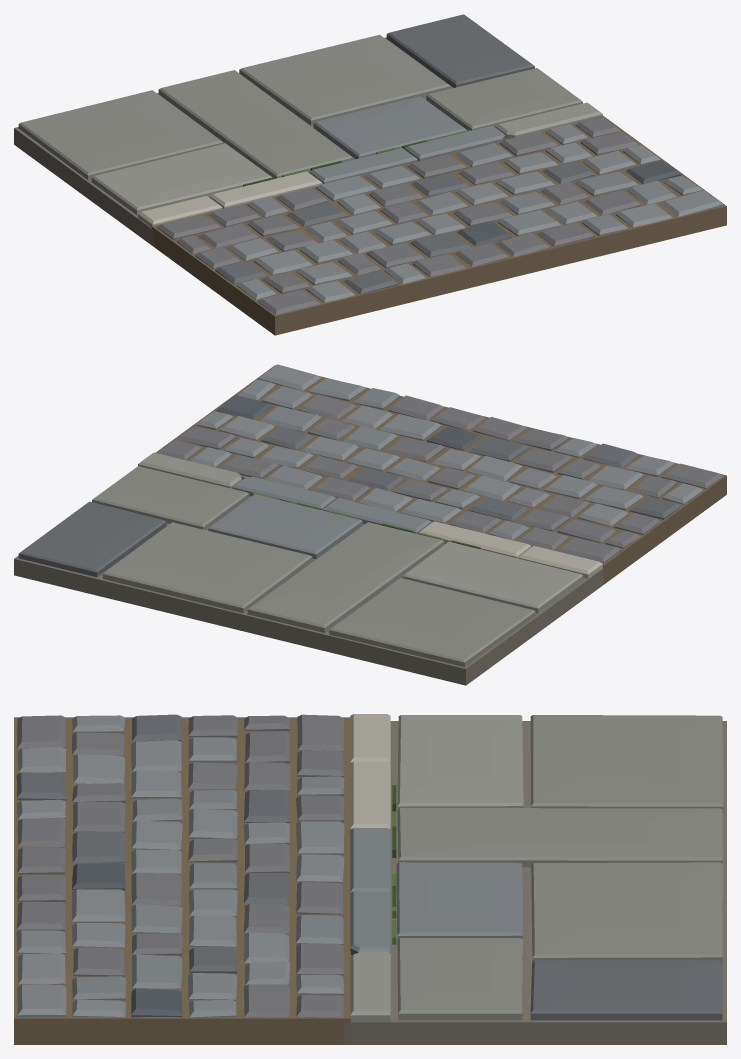
The model's file is SM_LPD_Floor_PavingJoinFlagCobble_01.fbx.
3 renders of one model, top to bottom at view 1: azimuth 30°, elevation 25°; view 2: azimuth 150°, elevation 25°; view 3: azimuth 270°, elevation 25°, orthographic. The views are drawn at different scales.
Visible parts, largest first — view 1: SM_LPD_Floor_PavingJoinFlagCobble_01; view 2: SM_LPD_Floor_PavingJoinFlagCobble_01; view 3: SM_LPD_Floor_PavingJoinFlagCobble_01.
Boxes of the visible parts, box(x1,y1,x2,y2) form: SM_LPD_Floor_PavingJoinFlagCobble_01: box(14, 14, 726, 335); SM_LPD_Floor_PavingJoinFlagCobble_01: box(14, 364, 726, 685); SM_LPD_Floor_PavingJoinFlagCobble_01: box(14, 714, 726, 1044).
Bounding box in the file's own units: 4 × 0.2 × 4.
